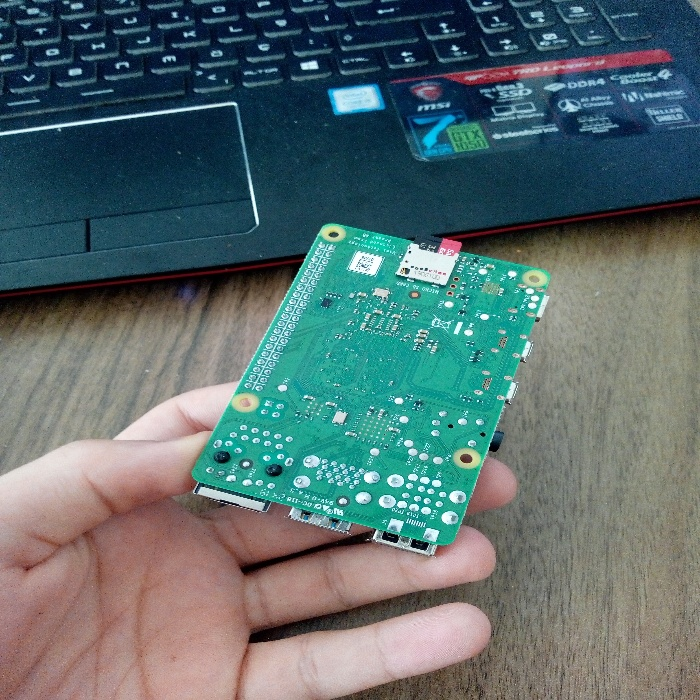raspberry: (177, 180, 551, 578)
